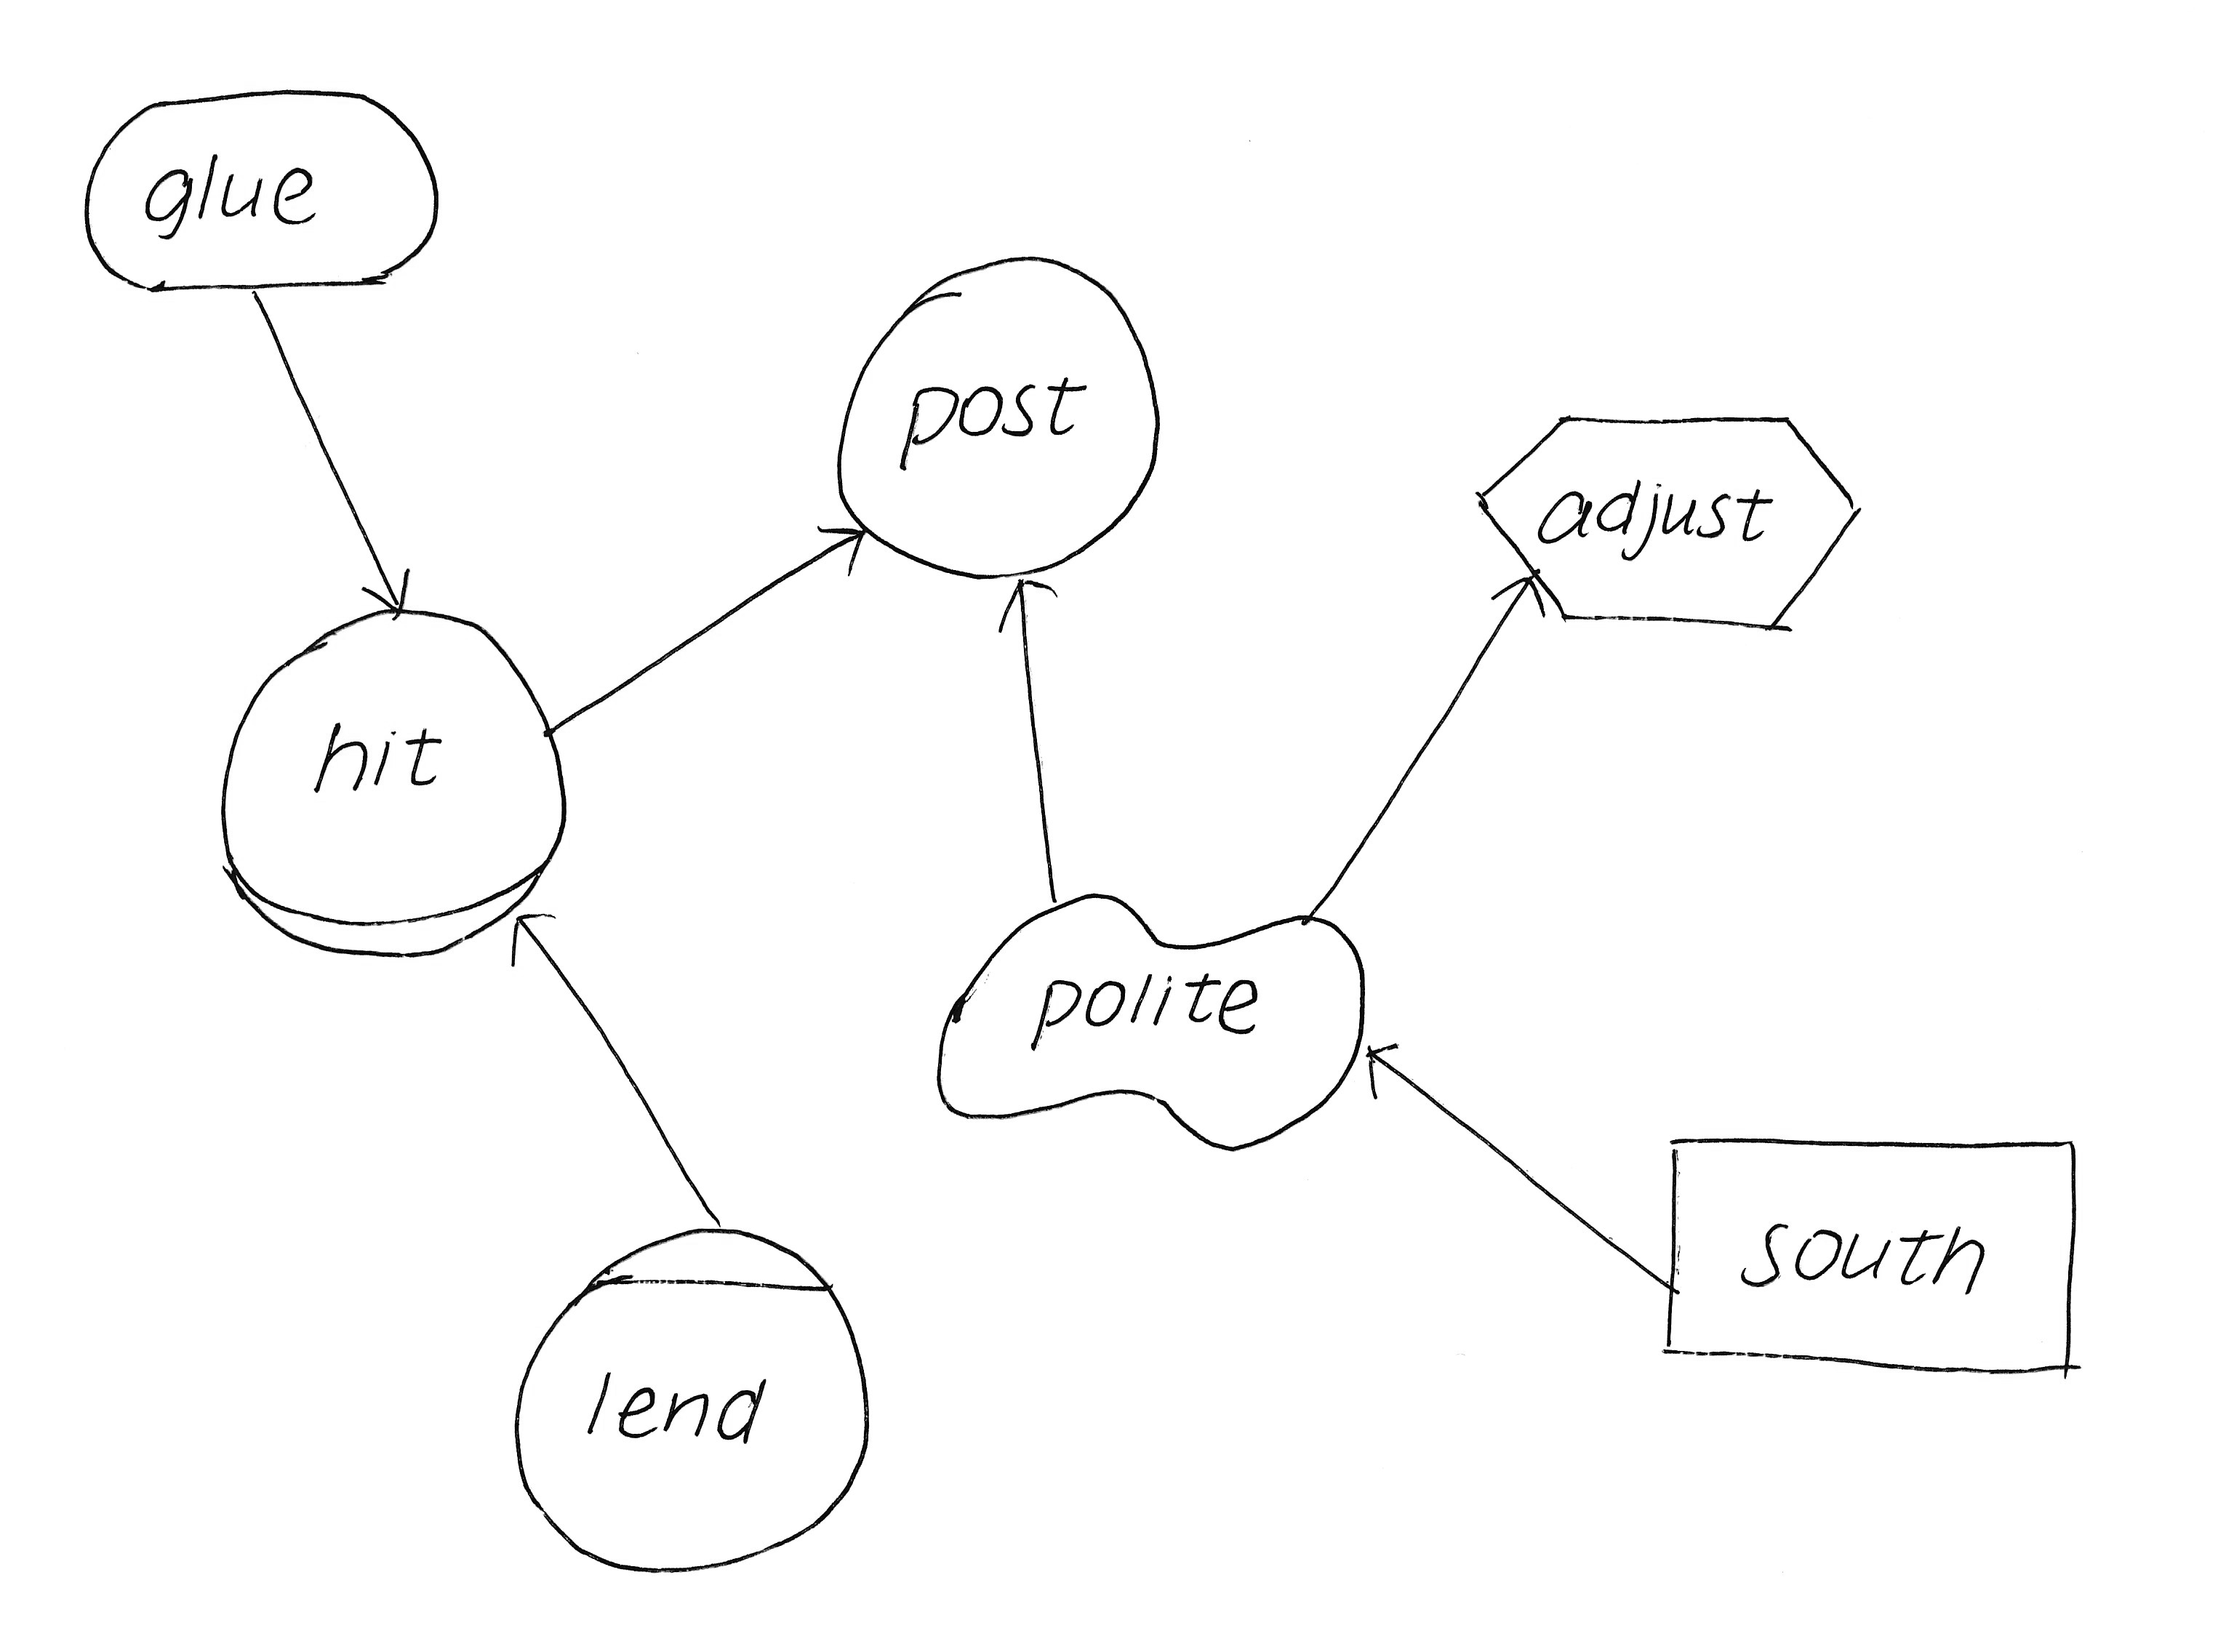actor: (821, 238, 1180, 595)
agent: (496, 1203, 894, 1584)
arrow: (1477, 552, 1569, 637), (807, 507, 889, 587), (989, 562, 1064, 647), (351, 560, 436, 633), (1355, 1020, 1416, 1112), (493, 890, 557, 968)
goal: (71, 73, 460, 312)
quality: (908, 871, 1395, 1168)
resource: (1644, 1111, 2114, 1395)
role: (198, 590, 594, 977)
task: (1460, 389, 1881, 644)
